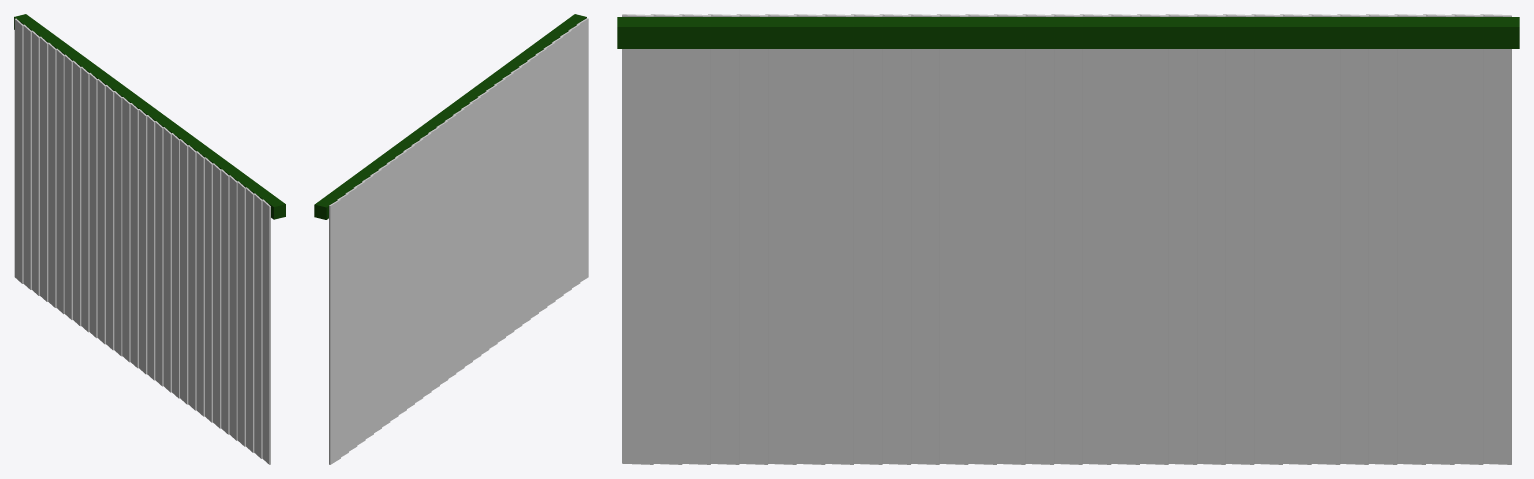
File: TranspShade.fbx
The picture shows the model from 3 angles, left to right: view 1: azimuth 30°, elevation 25°; view 2: azimuth 150°, elevation 25°; view 3: azimuth 270°, elevation 25°; orthographic projection. The views are drawn at different scales.
Parts seen in each view (by area): view 1: Plane.066, Cube.078; view 2: Plane.066, Cube.078; view 3: Plane.066, Cube.078.
Boxes of the visible parts, left/top/right/bottom form: Plane.066: left=14, top=18, right=270, bottom=464; Cube.078: left=14, top=14, right=285, bottom=219; Plane.066: left=329, top=18, right=588, bottom=464; Cube.078: left=314, top=14, right=586, bottom=219; Plane.066: left=622, top=14, right=1511, bottom=464; Cube.078: left=617, top=17, right=1519, bottom=48.
Bounding box in the file's own units: 19.08 × 313 × 570.
